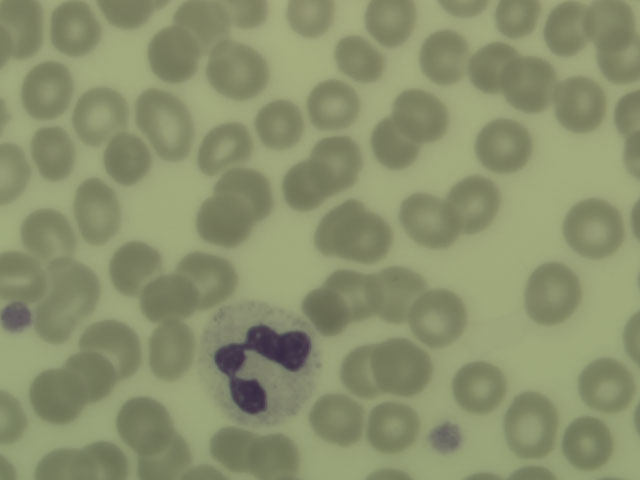Platelets: (427, 419, 465, 455), (1, 299, 32, 334)
RBC: (138, 87, 193, 165), (310, 134, 365, 192), (252, 94, 307, 152), (306, 68, 361, 126), (395, 86, 450, 144), (195, 121, 250, 179), (213, 44, 268, 102), (146, 26, 201, 84), (418, 27, 473, 85), (466, 39, 521, 97), (505, 59, 560, 117), (553, 75, 608, 133), (343, 207, 398, 265), (405, 192, 460, 250), (443, 176, 498, 234), (475, 113, 530, 171), (565, 197, 620, 255), (525, 265, 580, 323), (579, 350, 634, 408), (558, 410, 613, 468), (506, 397, 561, 455), (452, 358, 507, 416), (376, 338, 431, 396), (333, 340, 388, 398), (367, 397, 422, 455), (307, 391, 362, 449), (412, 286, 467, 344), (372, 262, 427, 320), (328, 266, 383, 324), (218, 169, 273, 227), (195, 193, 250, 251), (183, 251, 238, 309), (144, 322, 199, 380), (140, 270, 195, 328), (207, 420, 262, 478), (118, 392, 173, 450), (84, 314, 139, 372), (58, 348, 113, 406), (29, 366, 84, 424), (104, 238, 159, 296), (44, 257, 99, 315), (25, 203, 80, 261), (71, 184, 126, 242), (100, 126, 155, 184), (27, 124, 82, 182), (74, 85, 129, 143), (18, 59, 73, 117), (248, 422, 303, 479), (46, 1, 101, 58), (368, 113, 418, 172), (294, 285, 349, 337), (362, 1, 418, 48), (175, 1, 232, 47), (281, 161, 333, 210), (134, 431, 186, 479), (1, 1, 43, 60), (332, 38, 383, 86), (545, 1, 596, 48), (314, 204, 354, 263), (601, 27, 640, 87), (1, 243, 41, 299), (30, 294, 77, 339), (585, 1, 635, 43), (279, 1, 335, 38), (80, 440, 129, 480), (1, 141, 30, 206), (492, 1, 541, 39), (30, 450, 92, 480), (614, 80, 640, 143), (1, 389, 26, 453), (222, 1, 270, 26), (103, 1, 149, 26), (175, 457, 225, 480)
WBC: (203, 304, 319, 424)
